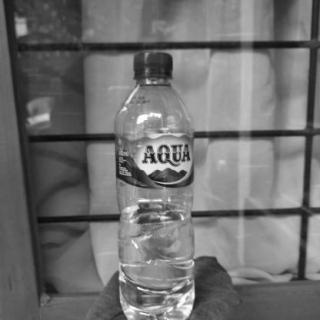plastic_bottles: (112, 49, 198, 320)
